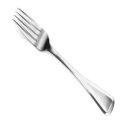fork: (11, 4, 122, 118)
